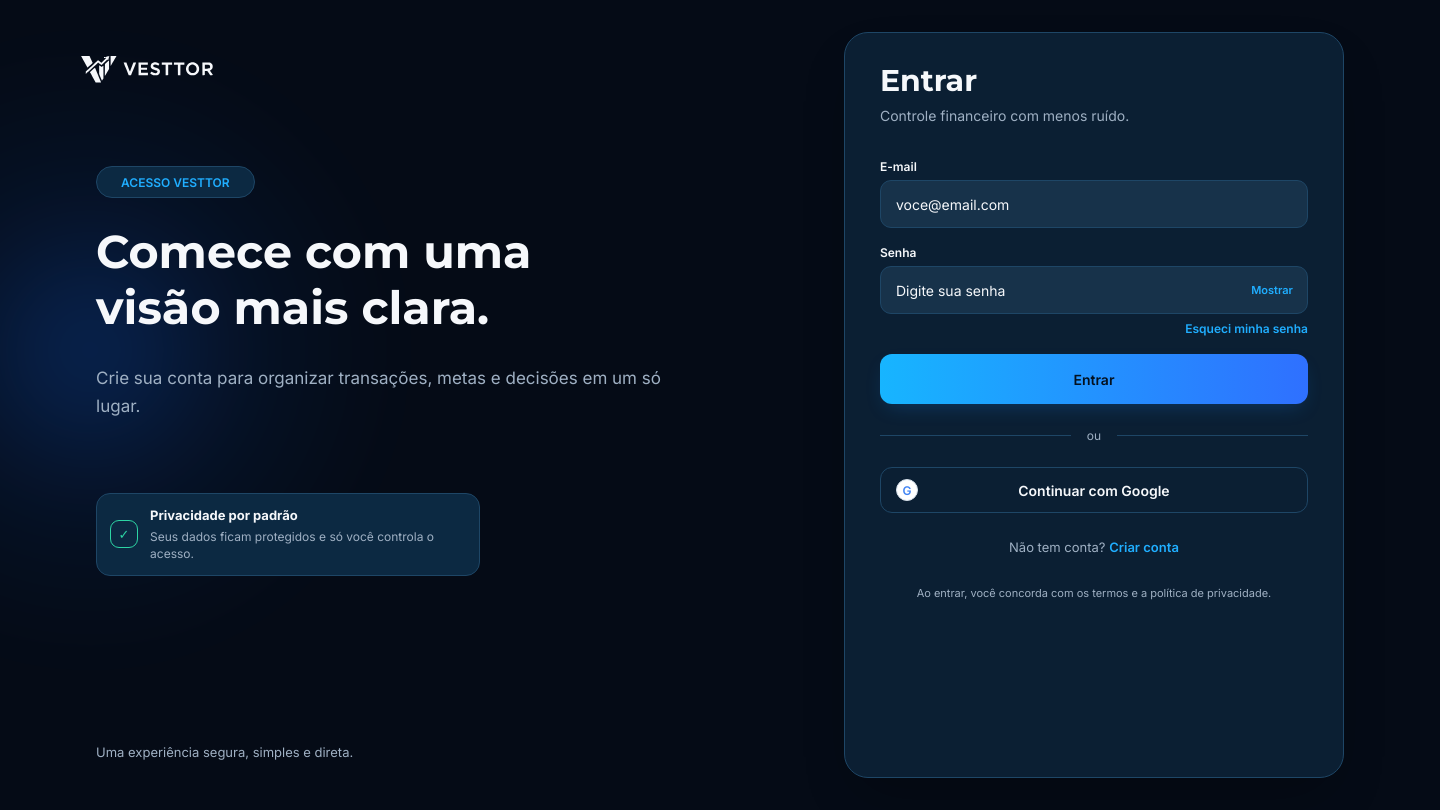
não envia campos vazios e apresenta mensagem segura para senha incorreta
The image size is (1440, 810).
Click the button "Entrar".
click(1094, 379)  # box 880,354 -> 1308,404
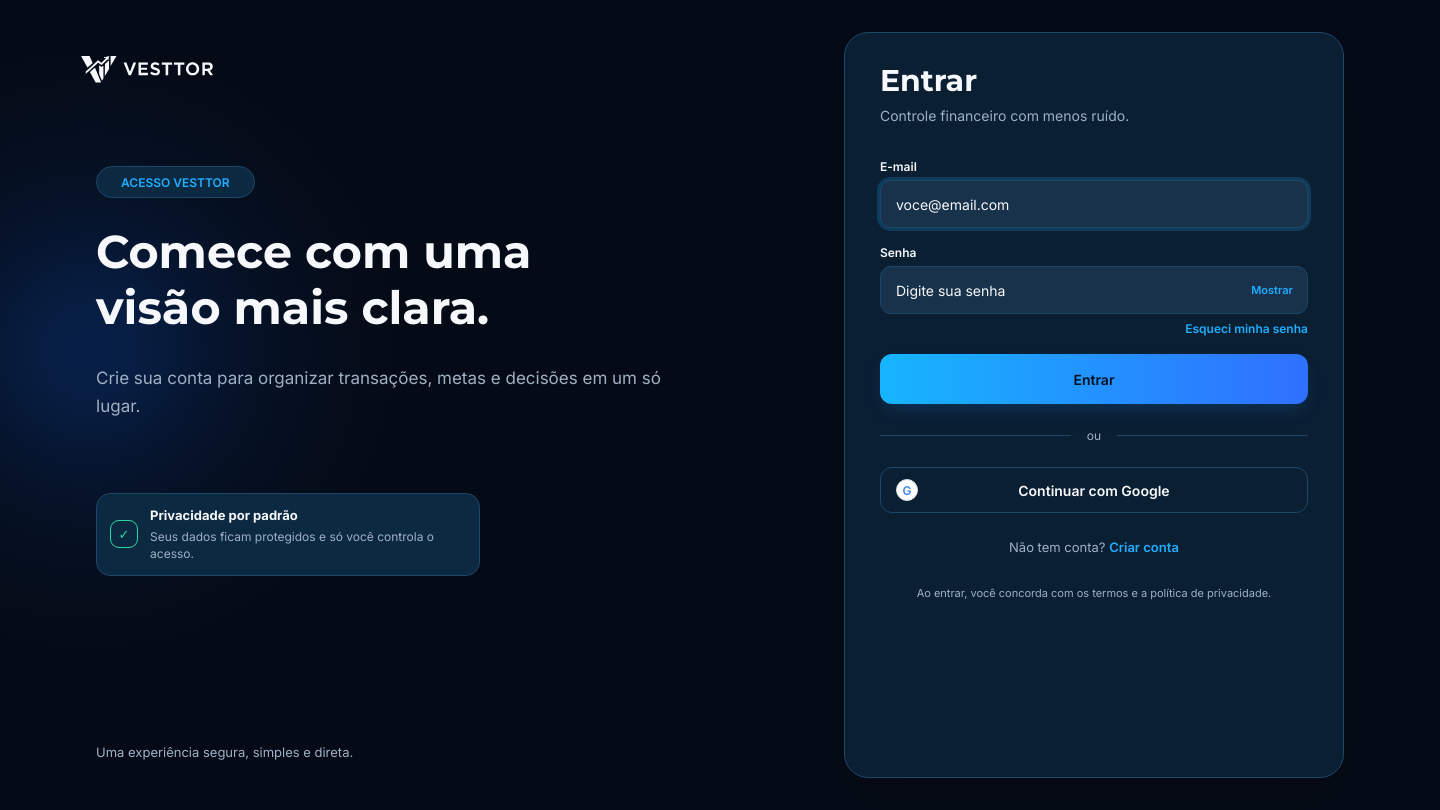
Type "teste@example.com" into the field labelled "E-mail".
click(1094, 204); type("teste@example.com")  # box 880,180 -> 1308,228
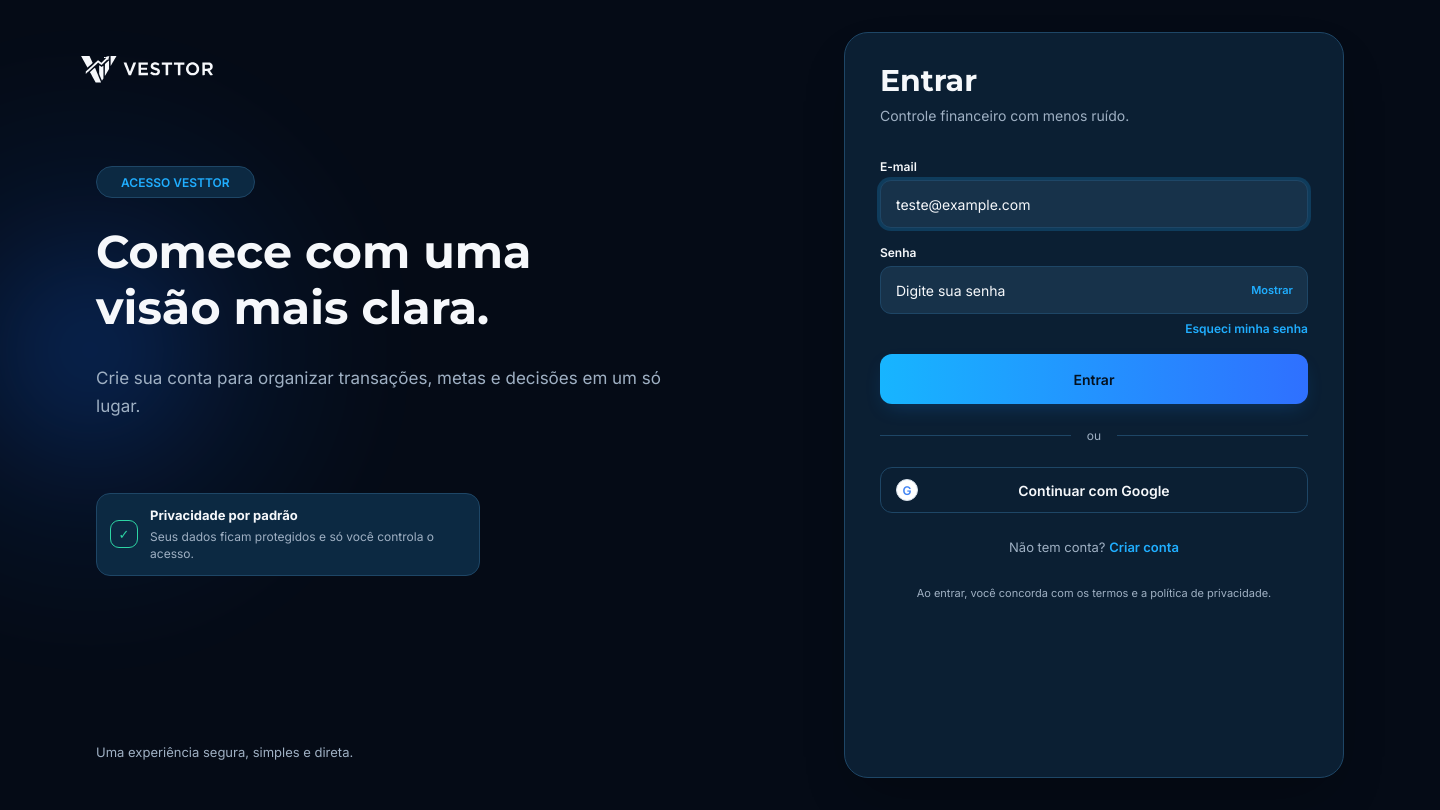
Type "errada" into the password field labelled "Senha".
click(1094, 290); type("errada")  # box 880,266 -> 1308,314
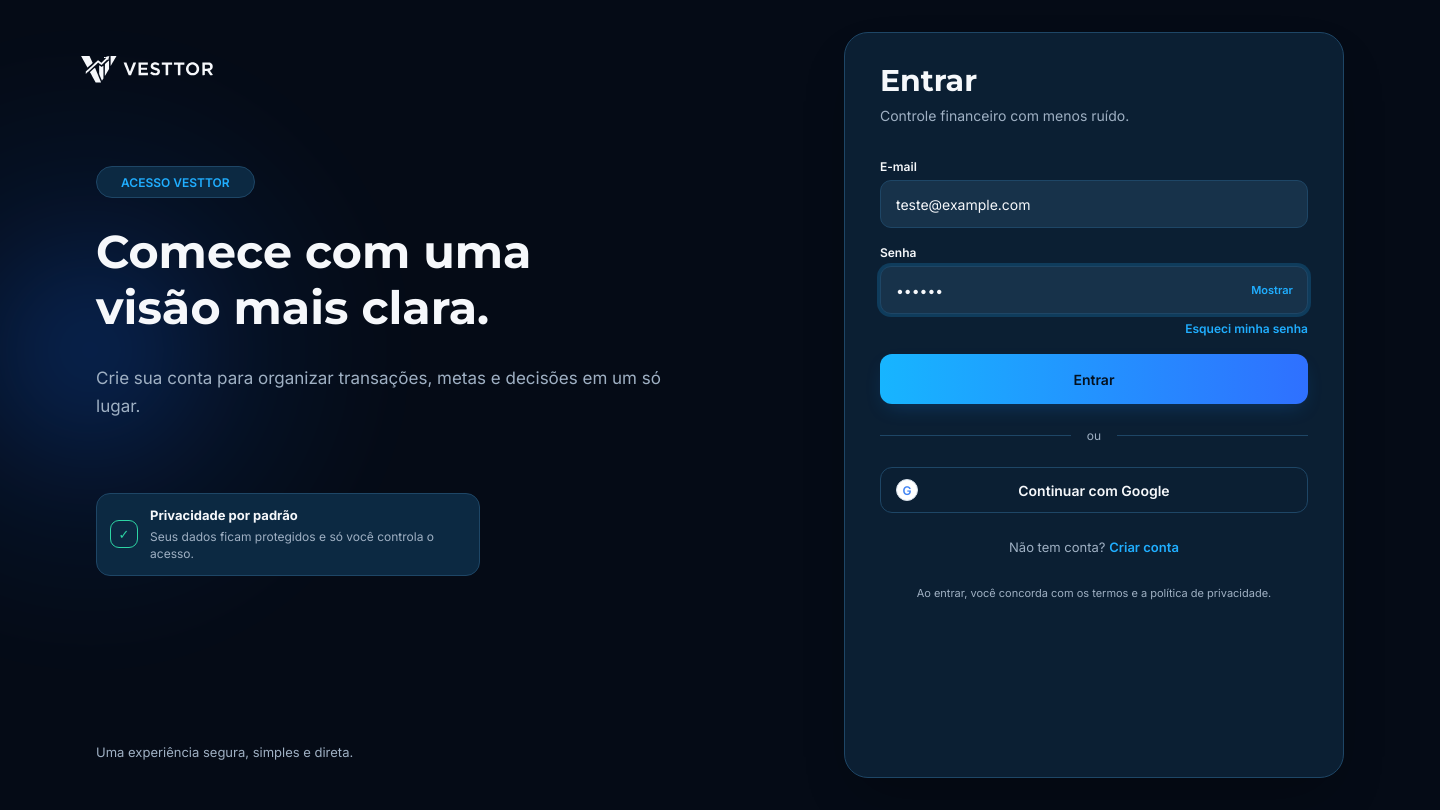
Click the button "Entrar".
click(1094, 379)  # box 880,354 -> 1308,404
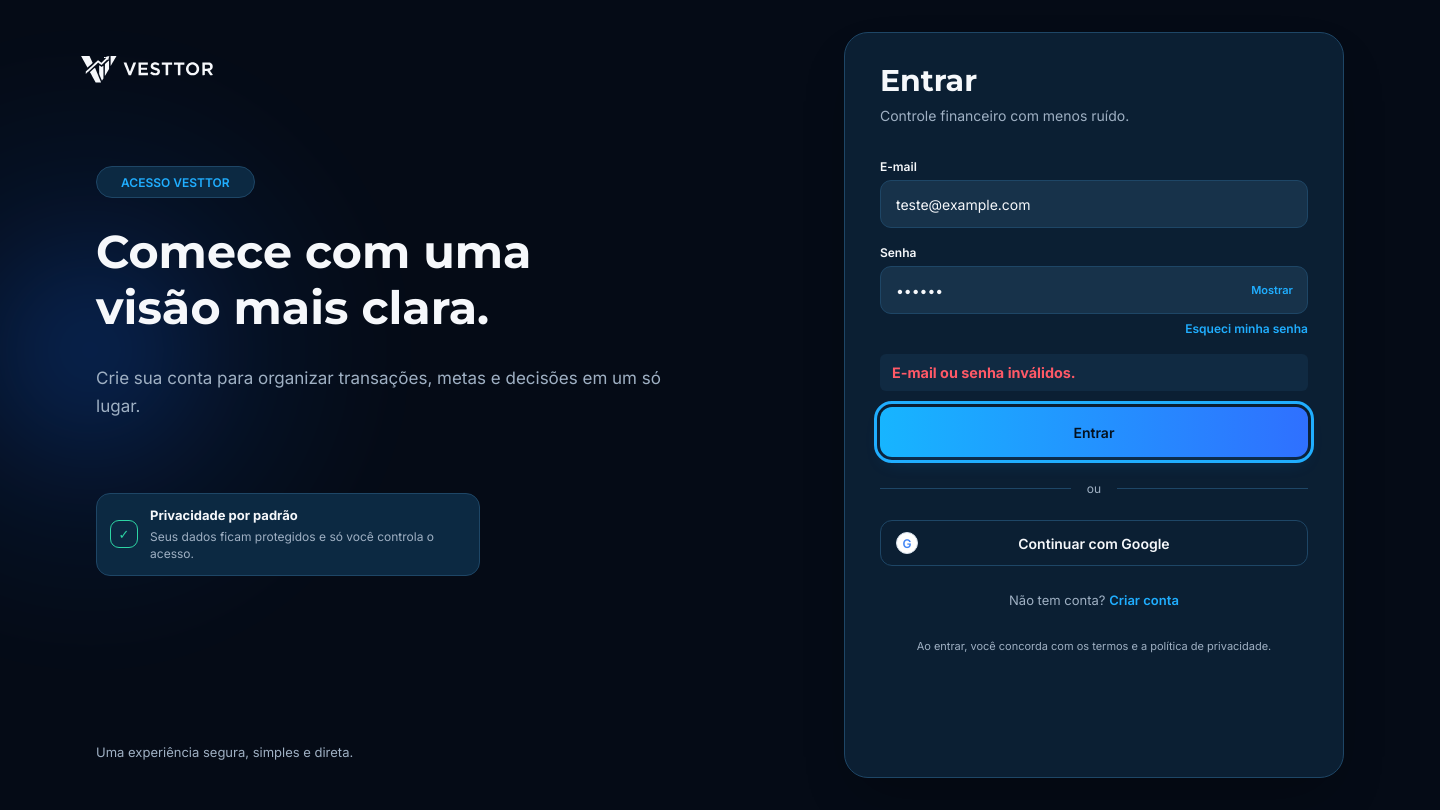
Expected: the message reads "E-mail ou senha inválidos.", 892,364 -> 1076,381
